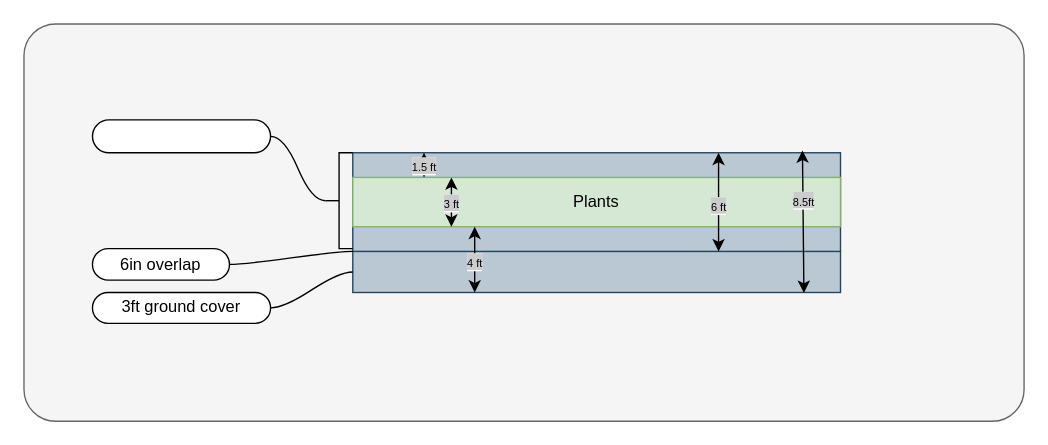
The diagram is 1048 pixels wide and 445 high, and some of its shapes have lost their labels. Here are the shapes that lost their labels. From the top down, the box of each, then its label:
(91, 119, 271, 153): 6ft ground cover
(351, 250, 840, 292): Path
